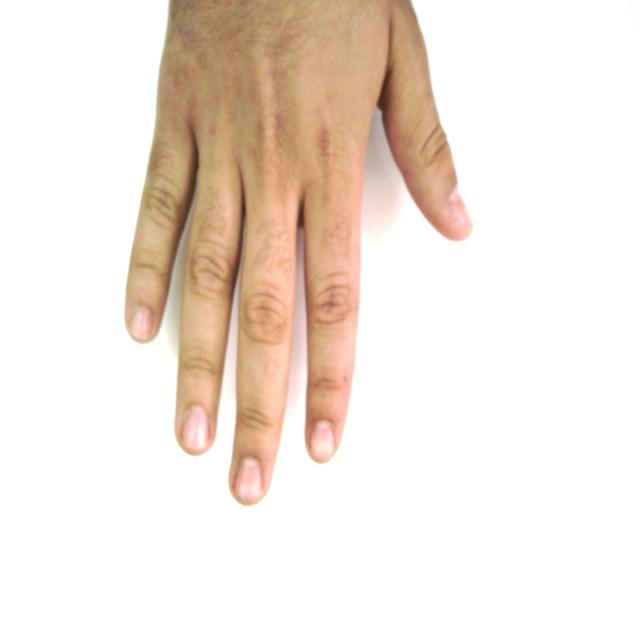Fingernail: (183, 406, 208, 451), (238, 458, 262, 502), (311, 422, 334, 460), (450, 192, 470, 230), (132, 309, 152, 340)
